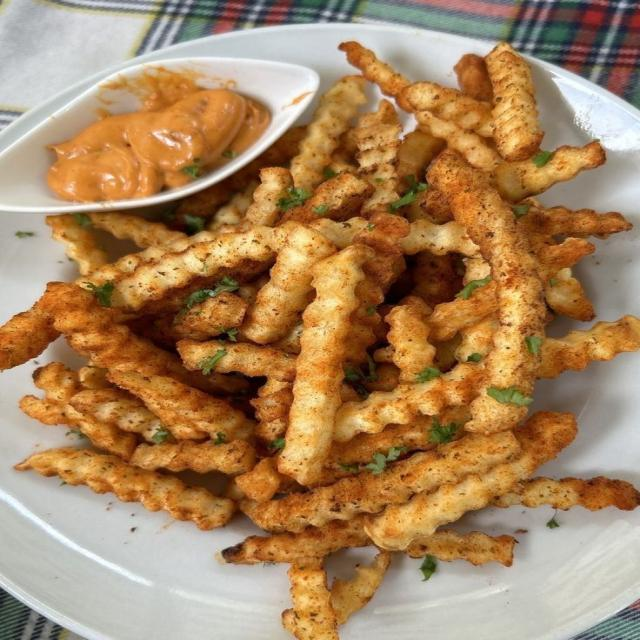potato fries: (0, 42, 639, 639)
